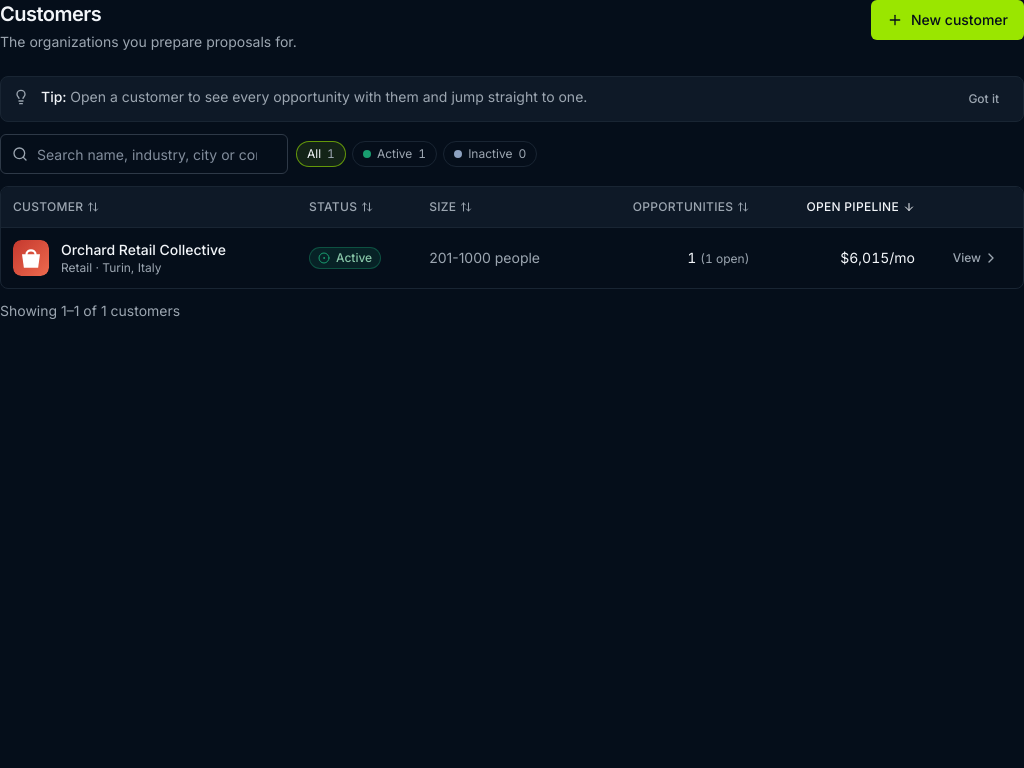
Test: CustomersPage › customer profile › shows the logo, location, size, tags and the whole profile in the modal
Step 1. Click the button "View" → coordinates (976, 258), box [941,242,1011,274]
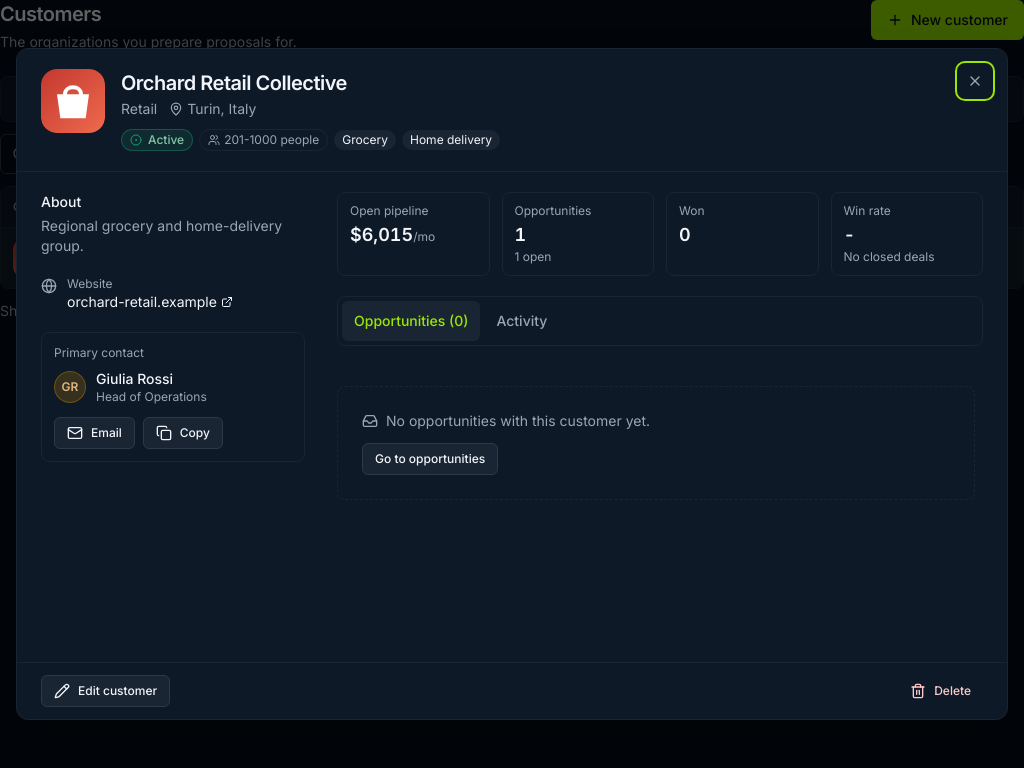
Check: the text "Turin, Italy" is shown, box [169,99,256,119]
Check: the text "Grocery" is shown, box [334,130,396,150]
Check: the text "Home delivery" is shown, box [402,130,500,150]
